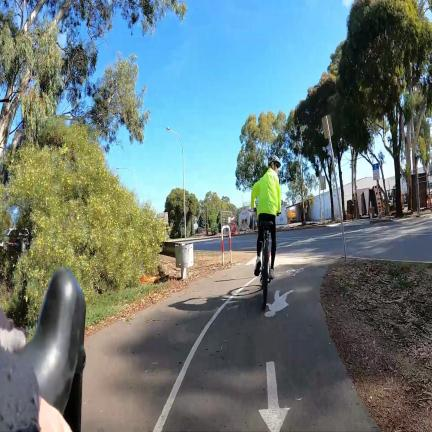Bike_Lane: (82, 254, 379, 432)
